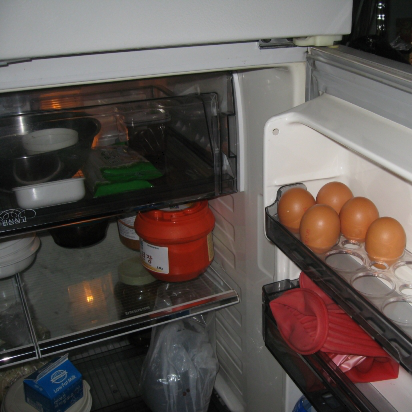egg: (278, 181, 409, 270)
